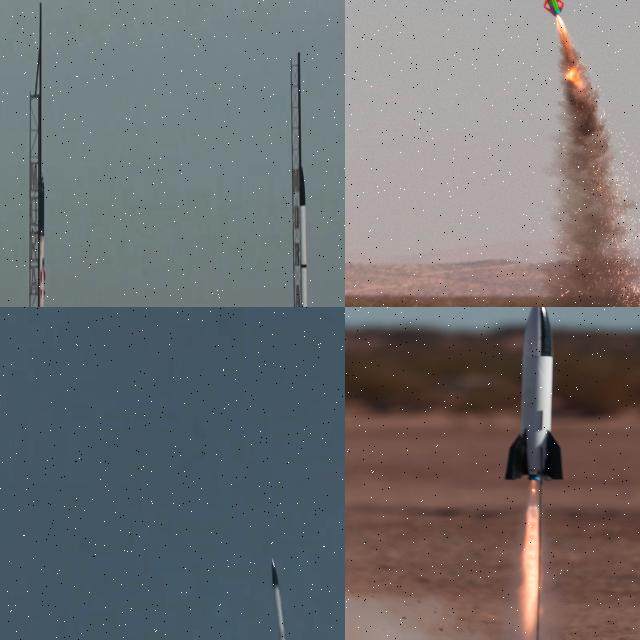Rocket: (504, 307, 564, 482), (293, 167, 316, 307), (271, 559, 301, 640), (33, 175, 50, 307)
